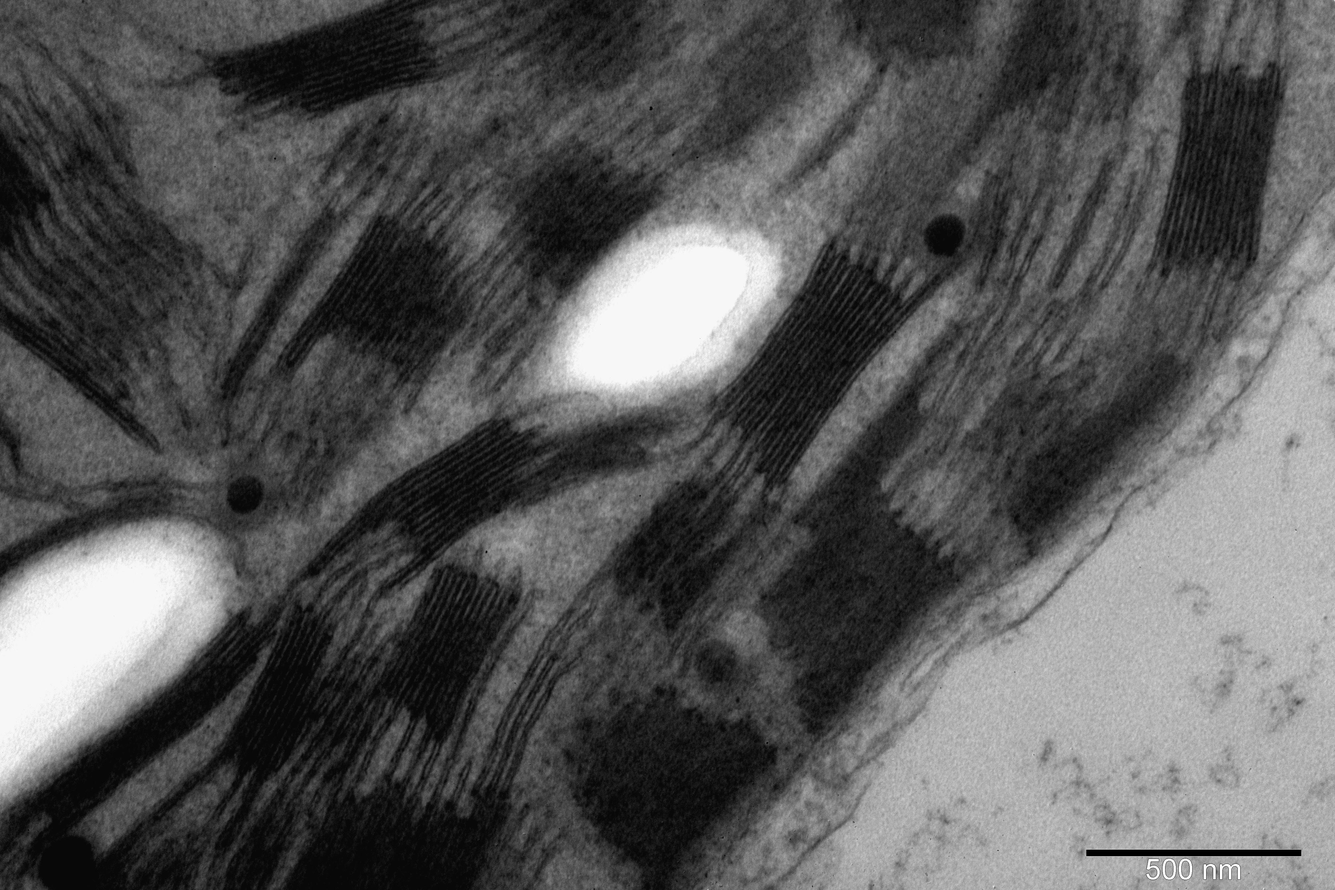granum: (746, 382, 969, 743), (702, 238, 919, 486), (33, 614, 278, 827), (998, 347, 1196, 559), (572, 687, 780, 887), (274, 209, 477, 387), (491, 130, 671, 307), (1150, 60, 1293, 274), (349, 414, 545, 563), (208, 1, 443, 122), (368, 566, 525, 741), (277, 777, 514, 889), (210, 603, 350, 774), (608, 478, 741, 633), (233, 205, 347, 375), (675, 28, 815, 163), (977, 0, 1095, 133), (530, 410, 677, 507), (541, 1, 648, 100), (829, 0, 984, 64), (6, 311, 91, 396), (0, 130, 51, 251), (216, 818, 289, 889)
